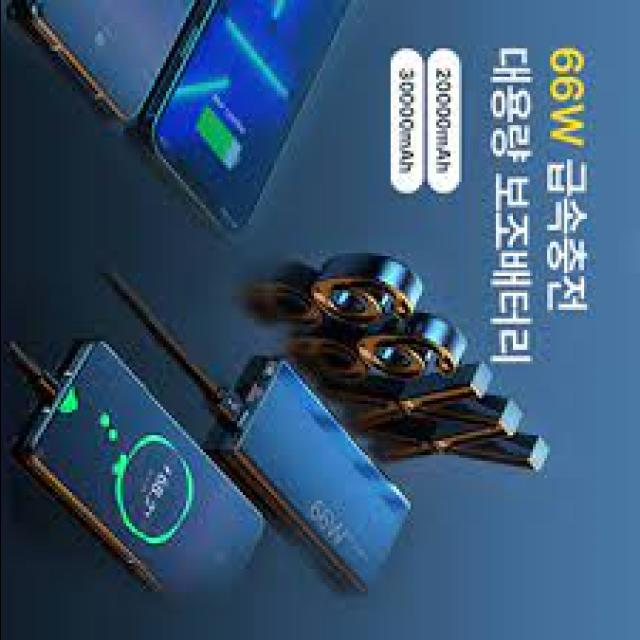portable-charger: (216, 360, 414, 594)
